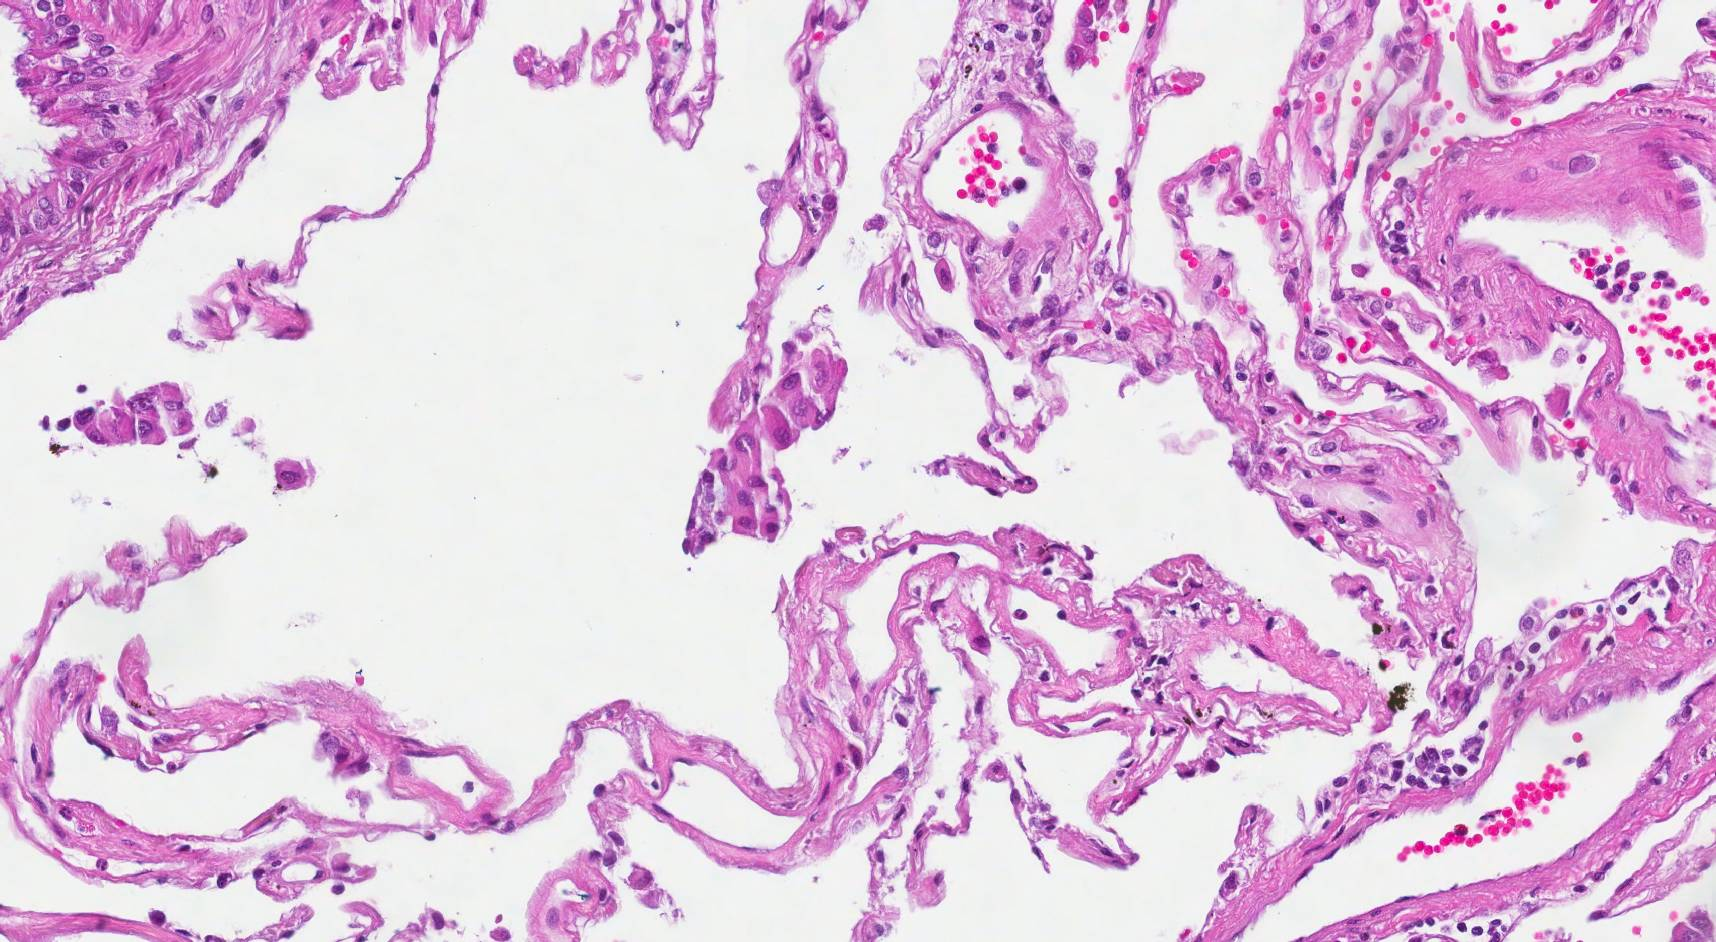stas: (702, 341, 852, 545), (63, 377, 199, 454)
